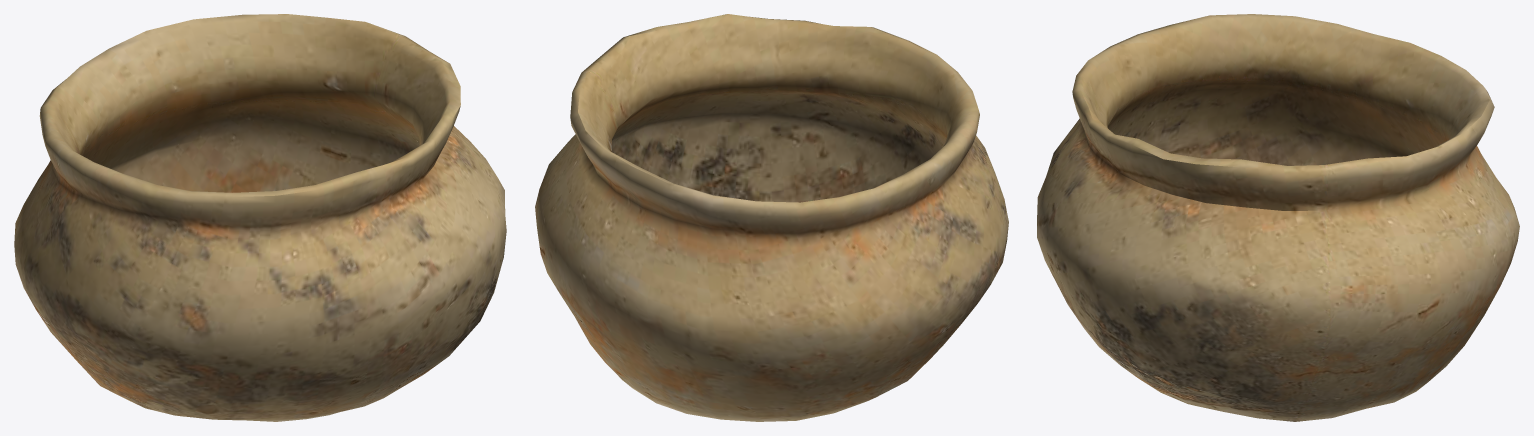
The model's file is antiquity2_24.fbx.
3 renders of one model, left to right at view 1: azimuth 30°, elevation 25°; view 2: azimuth 150°, elevation 25°; view 3: azimuth 270°, elevation 25°, orthographic. The views are drawn at different scales.
Parts seen in each view (by area): view 1: 0546; view 2: 0546; view 3: 0546.
Part boxes in pixels (<box>): 0546: <box>14,14,506,421</box>; 0546: <box>535,14,1008,421</box>; 0546: <box>1037,14,1519,421</box>.
Bounding box in the file's own units: 40 × 26.68 × 39.87.
Materials: 1 (1 with a texture image).
